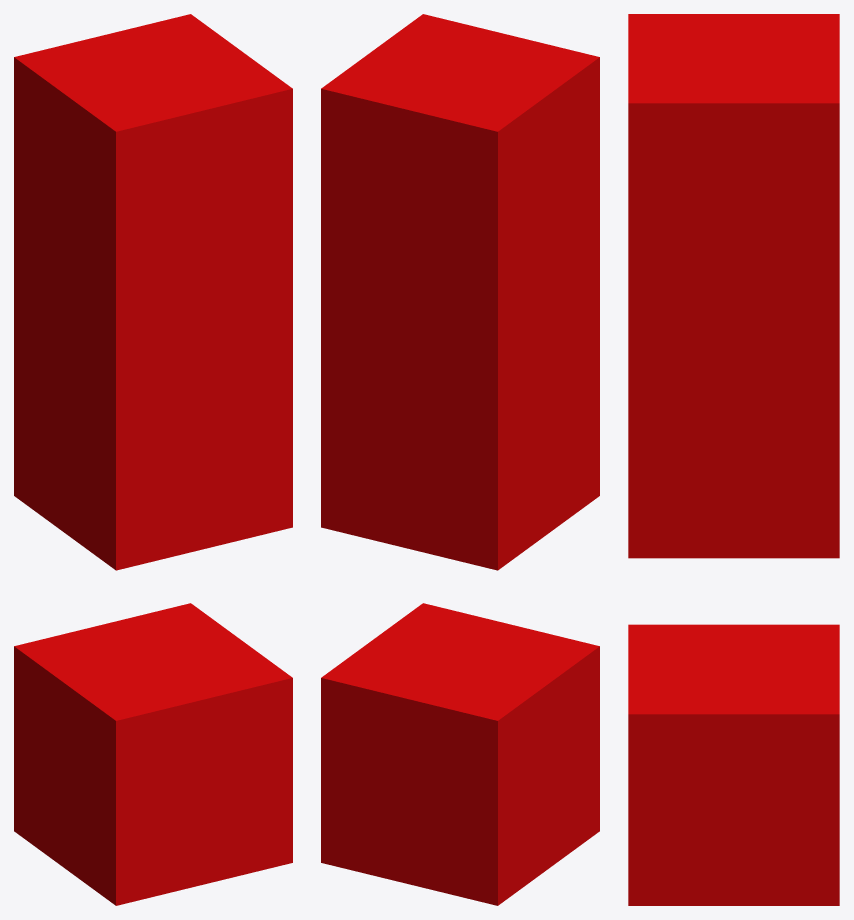
File: exclamation.glb
3 views of the same model, side by side, from view 1: azimuth 30°, elevation 25°; view 2: azimuth 150°, elevation 25°; view 3: azimuth 270°, elevation 25° (orthographic). The views are drawn at different scales.
Visible parts, largest first — view 1: Cube.001, Cube; view 2: Cube.001, Cube; view 3: Cube.001, Cube.
Boxes of the visible parts, bbox=[...] form: Cube.001: bbox=[14, 14, 292, 570]; Cube: bbox=[14, 603, 292, 905]; Cube.001: bbox=[321, 14, 599, 570]; Cube: bbox=[321, 603, 599, 905]; Cube.001: bbox=[628, 14, 839, 558]; Cube: bbox=[628, 624, 839, 905].
Size of the model in its own units: 2 by 8.37 by 2.
